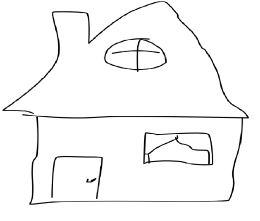big_house: (0, 0, 258, 217)
chimney: (45, 5, 91, 68)
closed_window: (100, 33, 173, 81)
door: (41, 145, 108, 209)
open_window: (138, 119, 218, 175)
roof: (4, 3, 253, 124)
wall: (24, 111, 249, 209)
